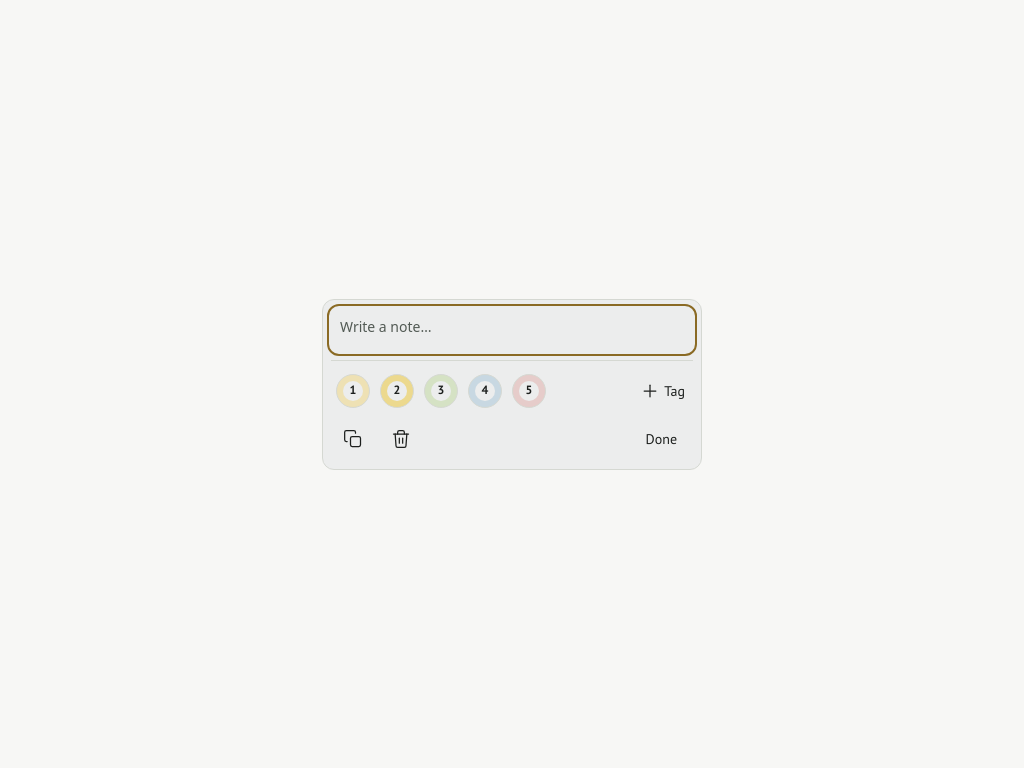
Scenario: NotePopover — rapid or repeated actions (issue #177) › a second debounce queues behind the first write; dismissal waits for its failure
Later steps or results of the test are not shown.
Type "older" into the text box labelled "note". click: (512, 330)
box: [331,308,693,352]
Wait 800 ms
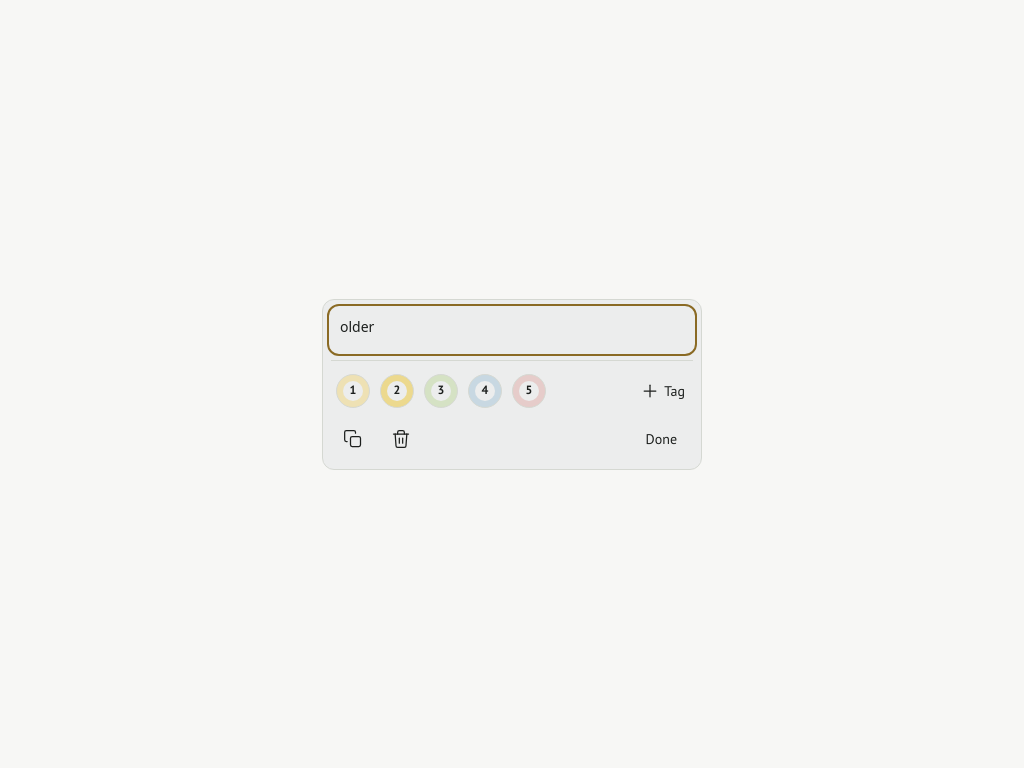
Replace the text in the text box named "note" with "latest". click: (512, 330)
box: [331,308,693,352]
Wait 800 ms
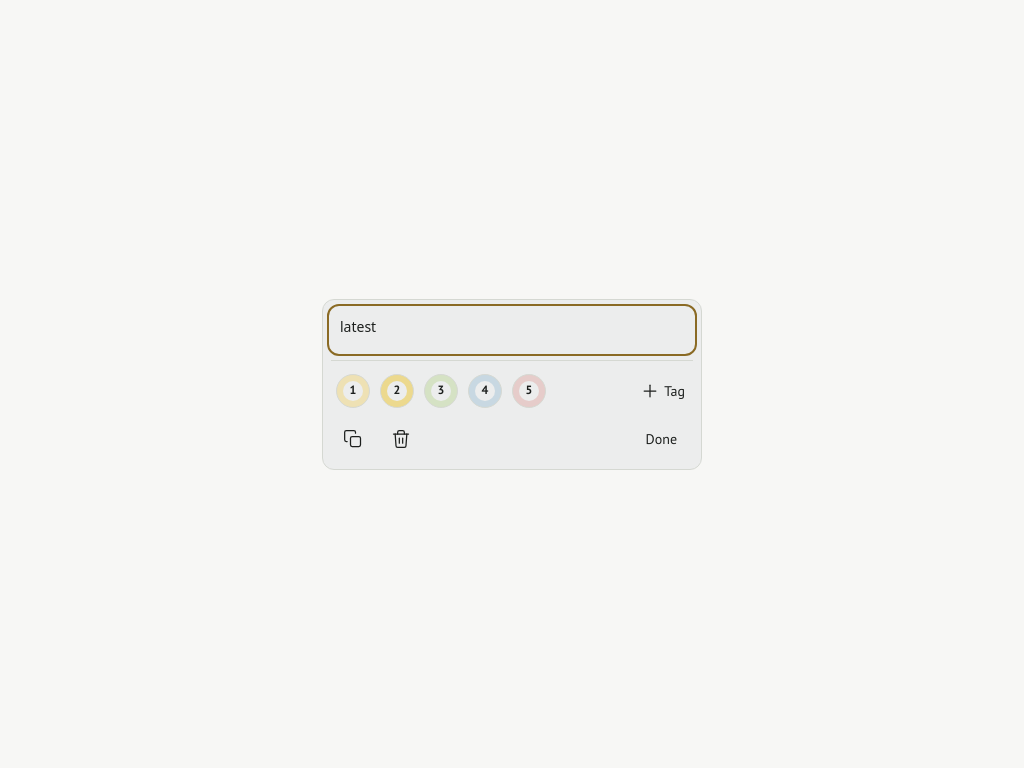
Click the button "Done". click: click(661, 438)
box: [630,416,693,460]
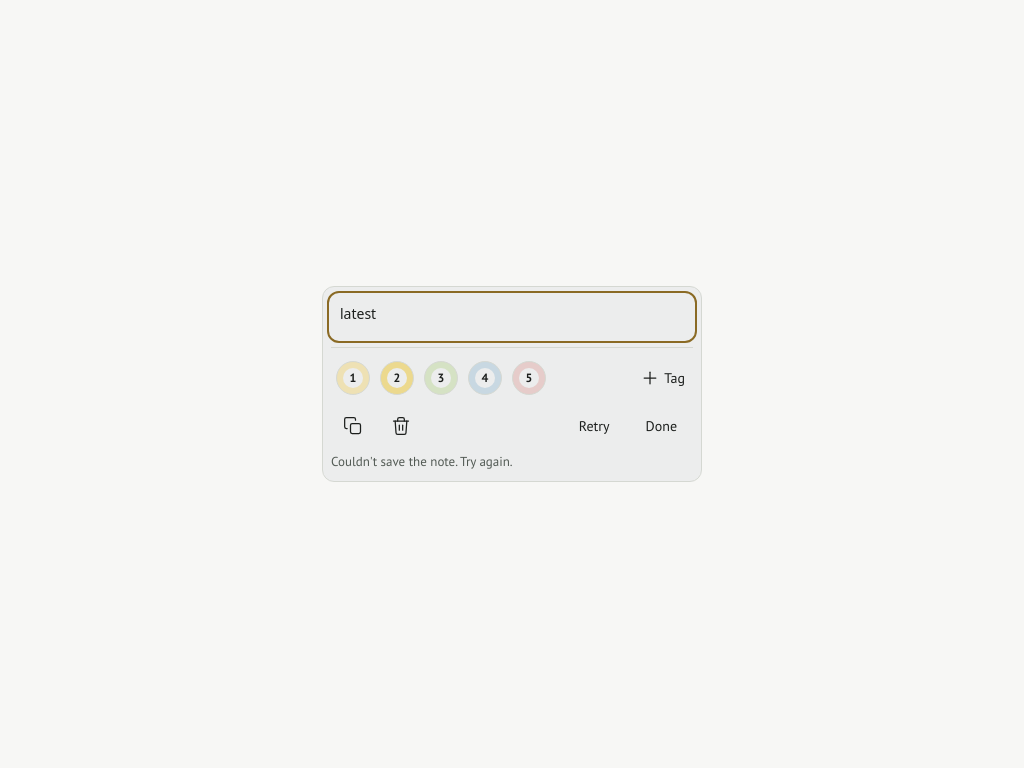
Result: the text "Couldn't save the note. Try again." is shown at [331,453,513,470]
